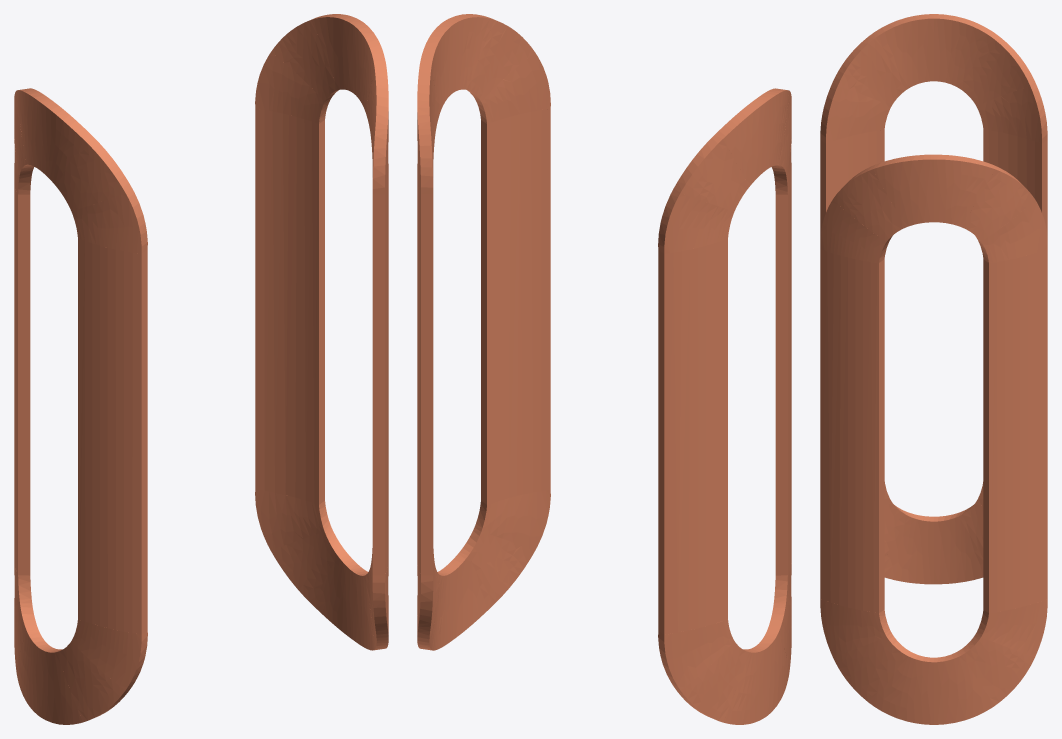
The model's file is Rotor1Phase02.glb.
The picture shows the model from 3 angles, left to right: view 1: azimuth 30°, elevation 25°; view 2: azimuth 150°, elevation 25°; view 3: azimuth 270°, elevation 25°; orthographic projection. The views are drawn at different scales.
Visible parts, largest first — view 1: Rotor; view 2: Rotor; view 3: Rotor.
Boxes of the visible parts, x1=… form: Rotor: x1=14, y1=14, x2=388, y2=724; Rotor: x1=417, y1=14, x2=791, y2=724; Rotor: x1=820, y1=14, x2=1047, y2=724.
Bounding box in the file's own units: 214 × 388 × 141.
